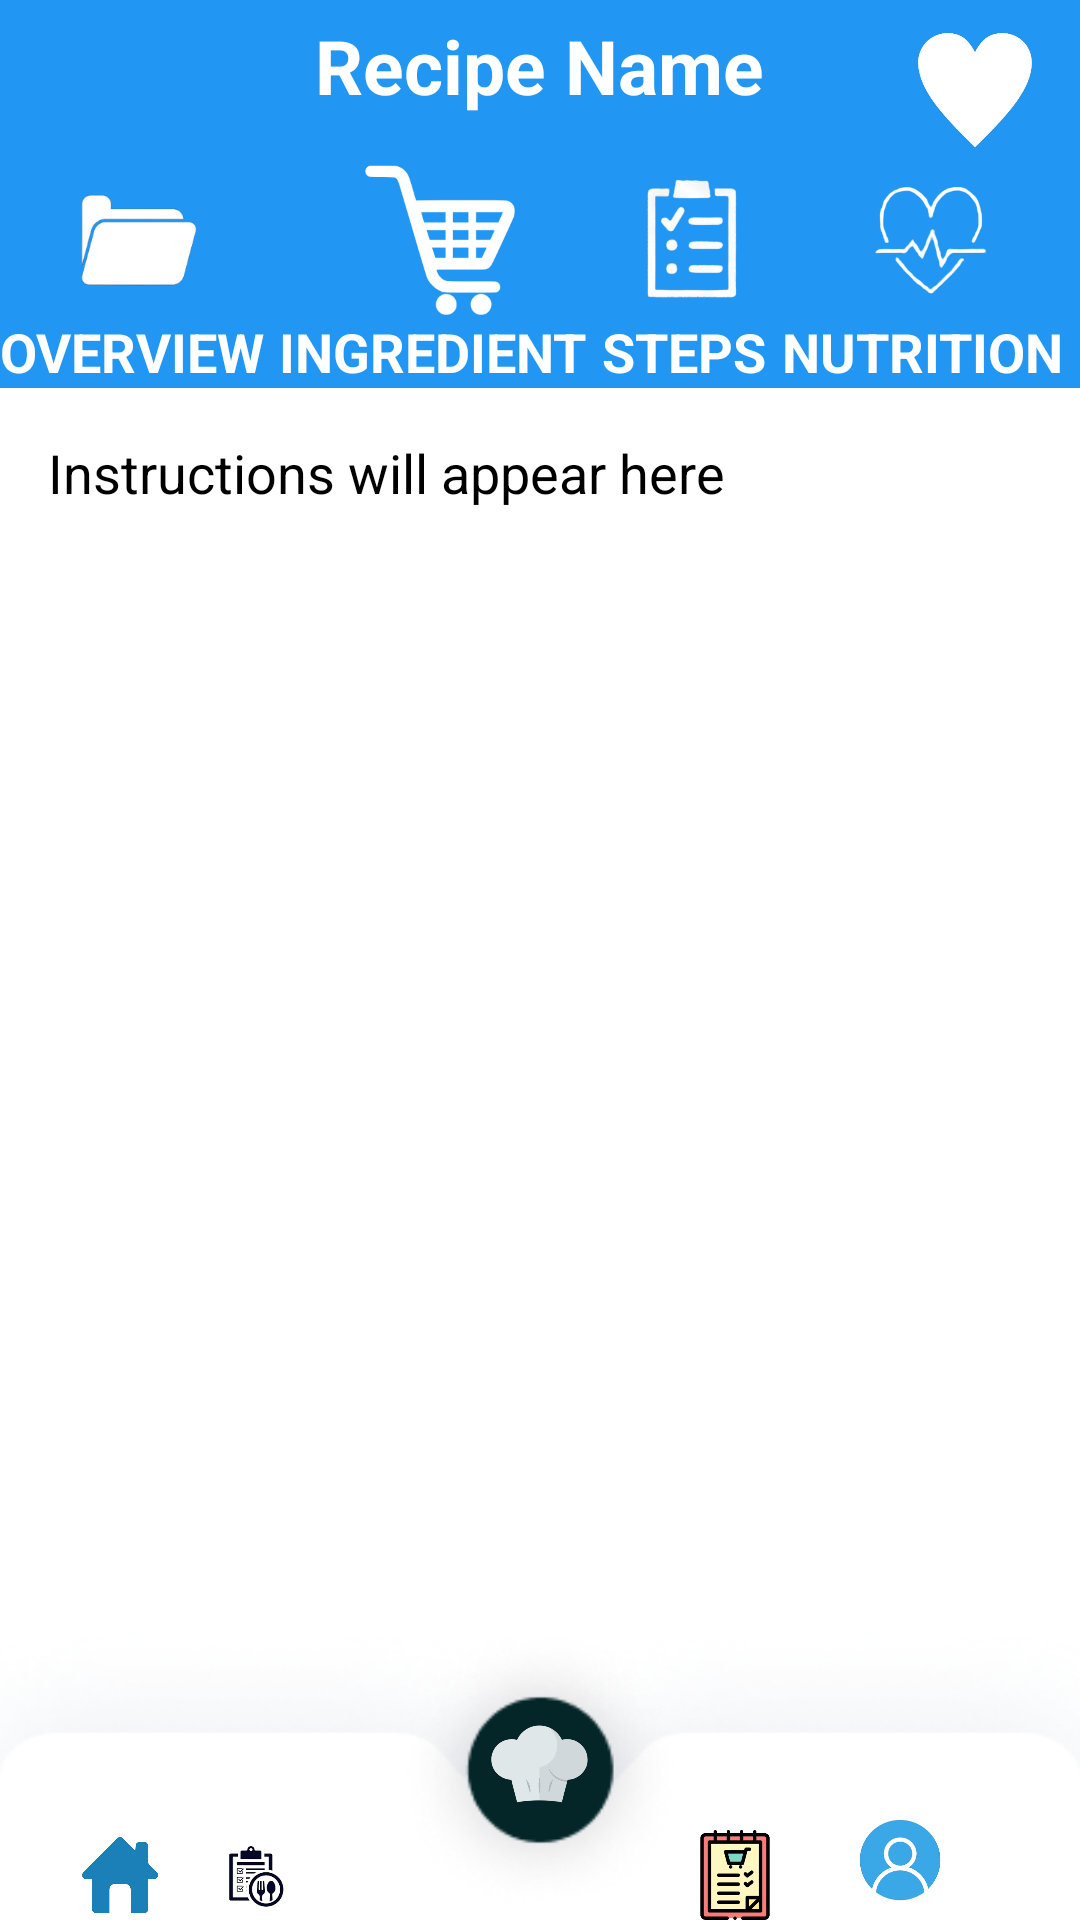

Icon click points for this 1080×1920 phone screenshot, format point (x, y):
chef hat: point (539, 1764)
grocery list: point (735, 1875)
